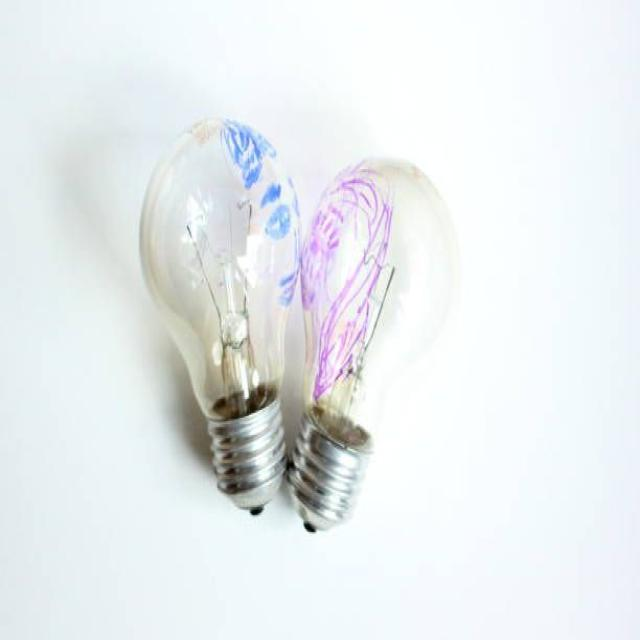electronic: (137, 111, 457, 532), (137, 112, 302, 514), (285, 152, 457, 532)
